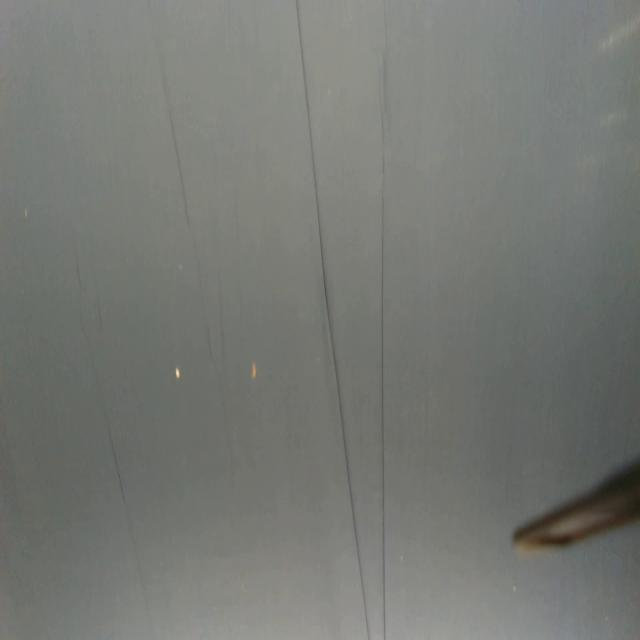crease: (293, 1, 370, 640), (107, 421, 152, 622), (378, 7, 388, 640), (157, 49, 192, 224)
hole: (249, 362, 259, 384), (510, 580, 520, 596), (398, 550, 407, 566), (175, 261, 186, 274), (603, 613, 611, 629), (176, 363, 182, 383), (22, 206, 30, 220)
